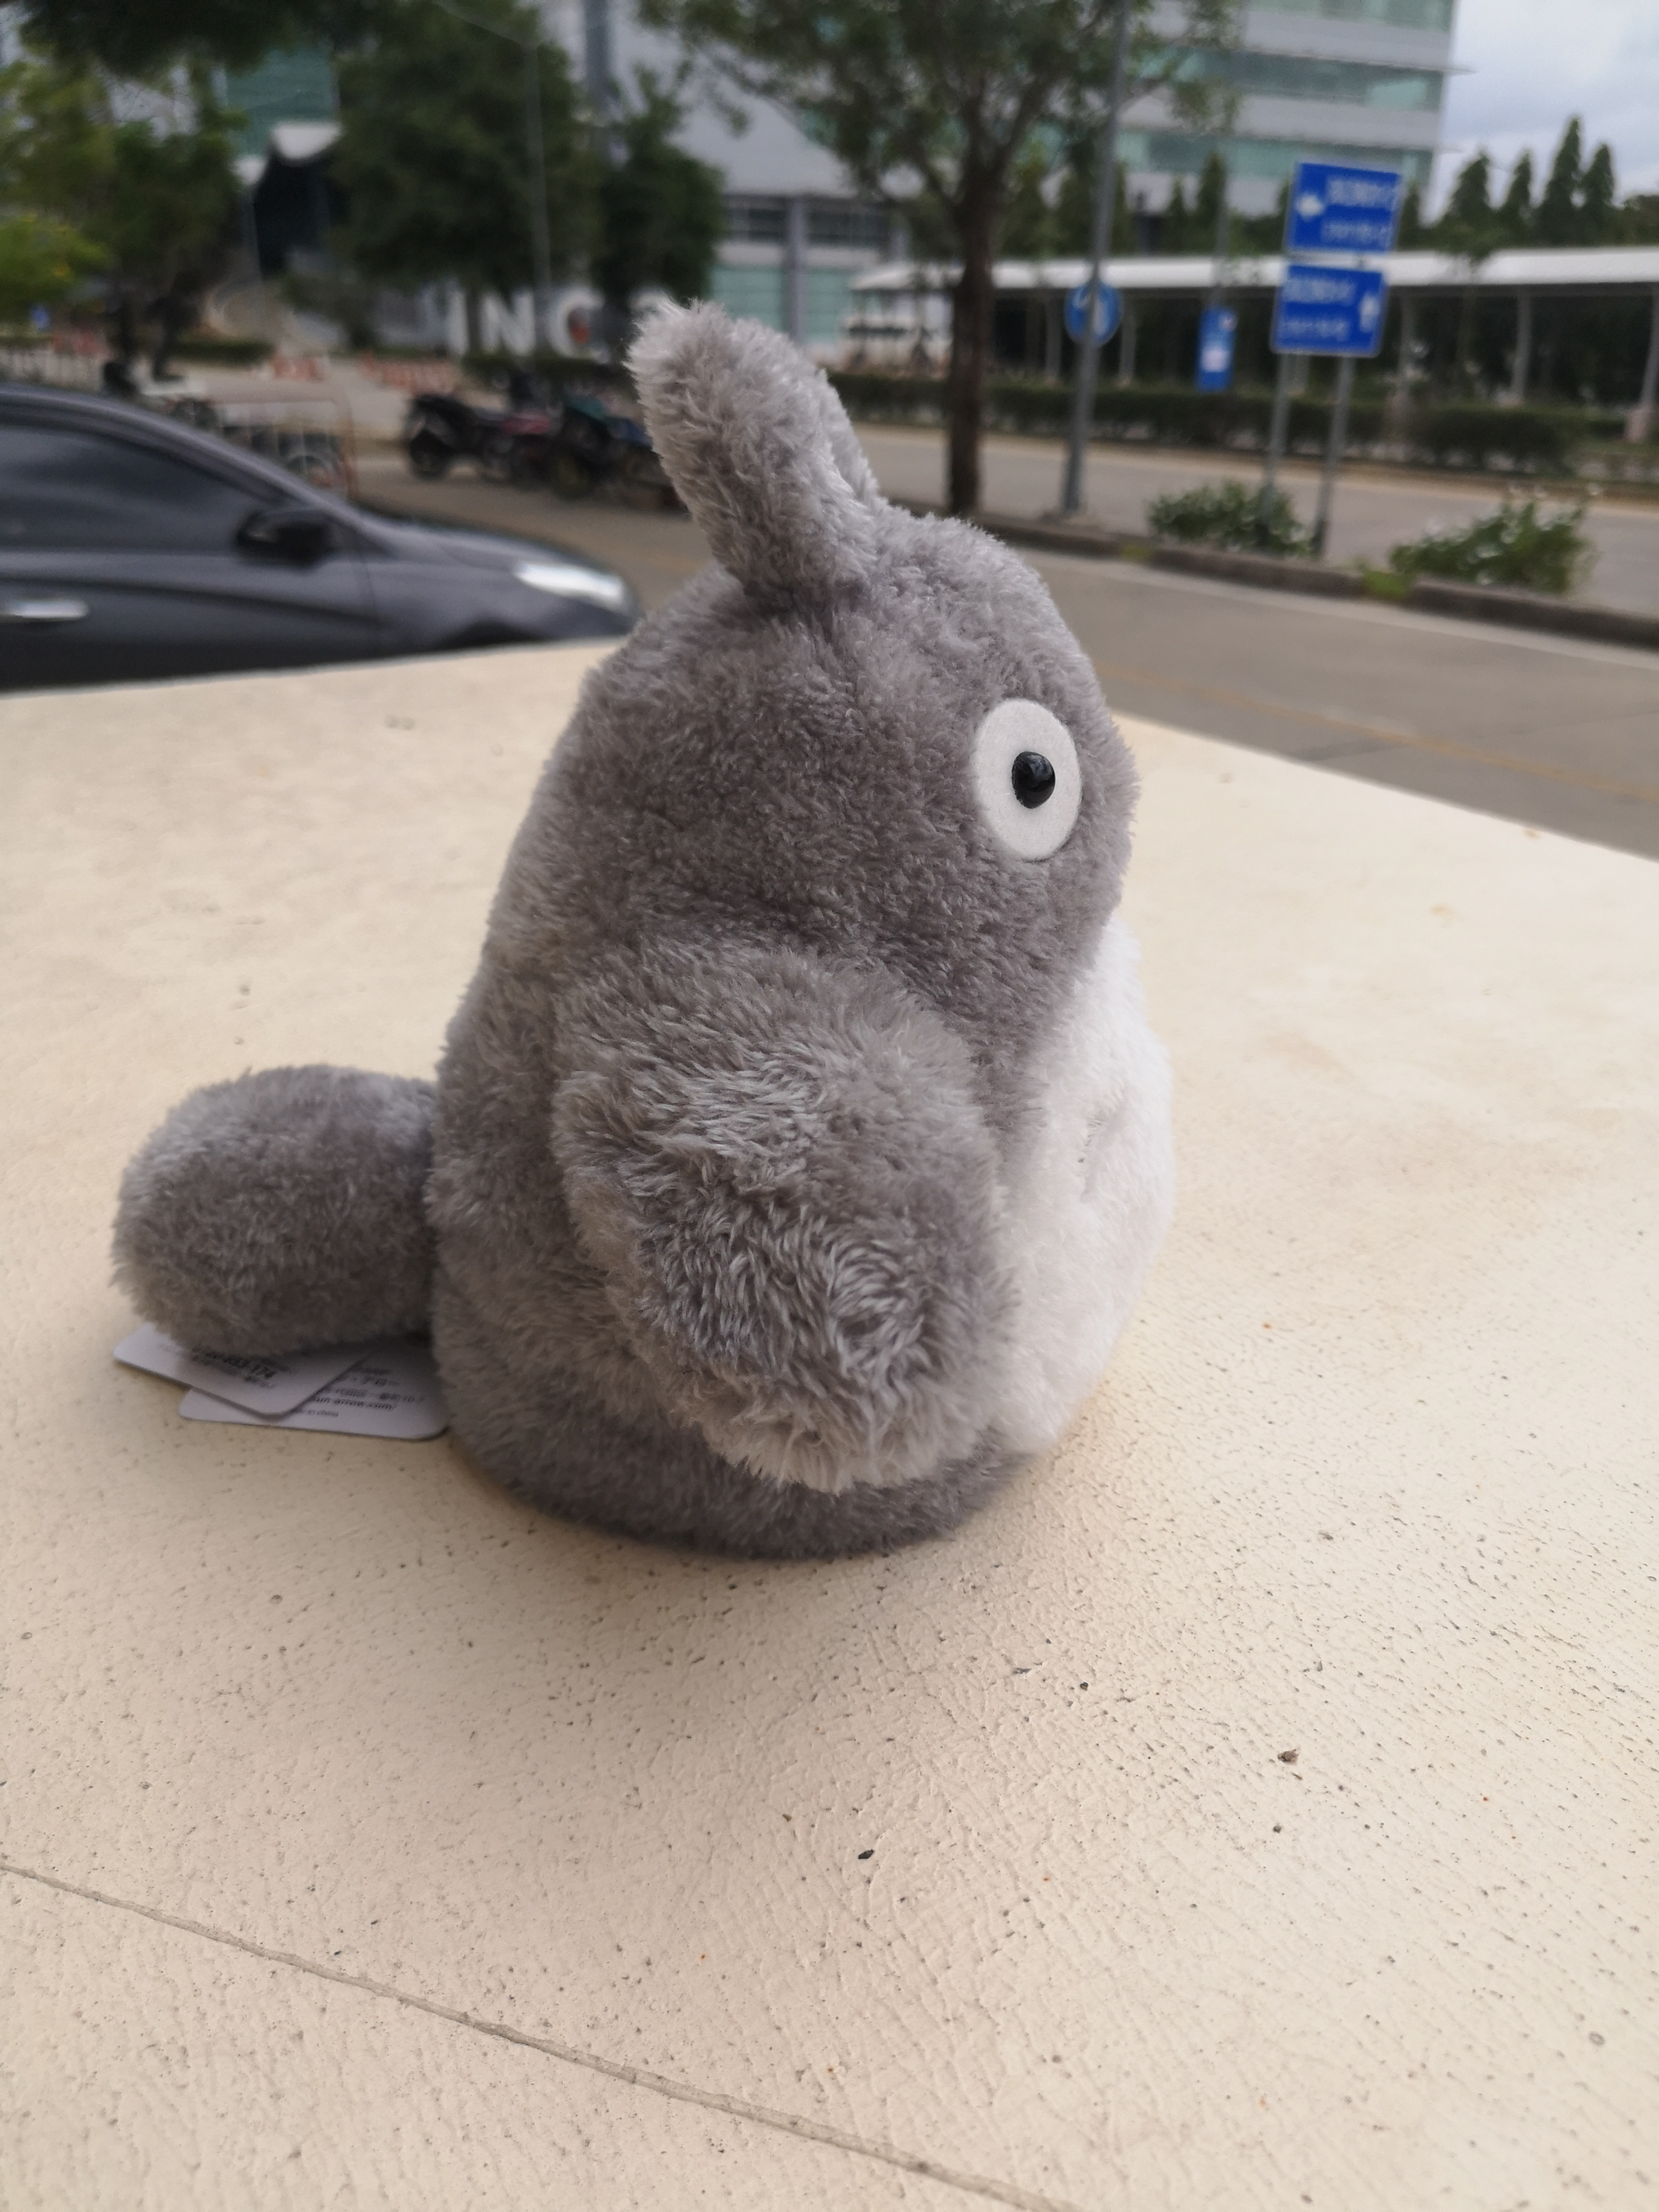totoro: (91, 291, 1195, 1580)
